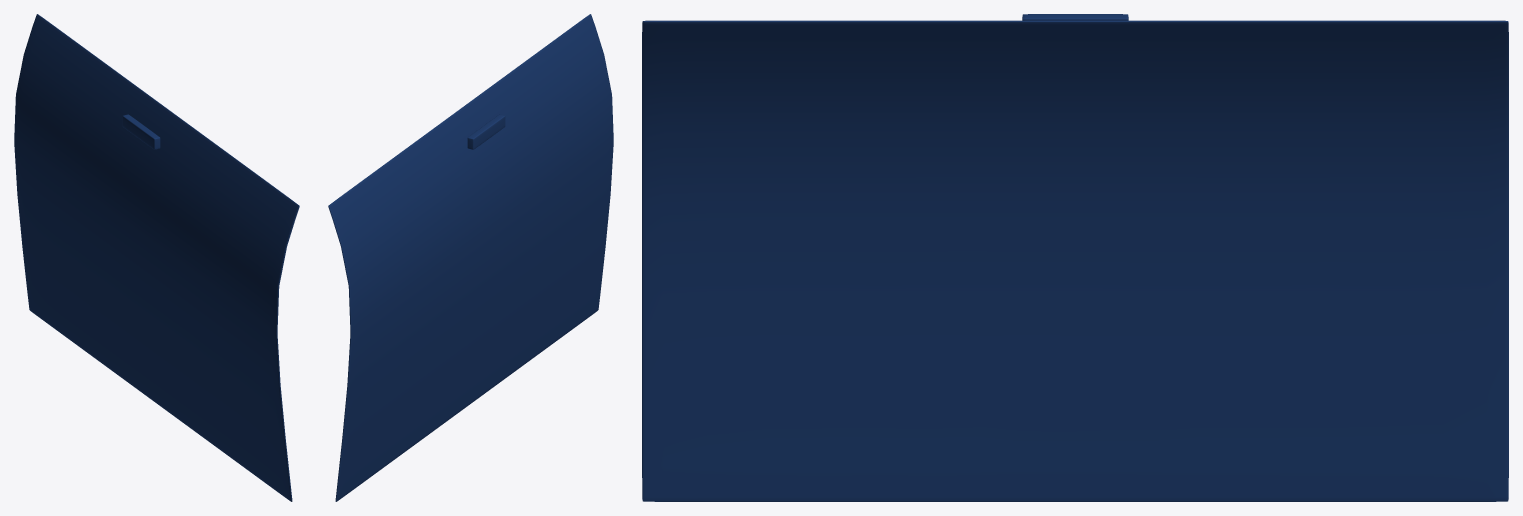
Rendered from door_front_r.glb.
The picture shows the model from 3 angles, left to right: view 1: azimuth 30°, elevation 25°; view 2: azimuth 150°, elevation 25°; view 3: azimuth 270°, elevation 25°; orthographic projection. The views are drawn at different scales.
Visible parts, largest first — view 1: GEO_Door_Front_R; view 2: GEO_Door_Front_R; view 3: GEO_Door_Front_R.
Part boxes in pixels (x1,y1,x2,y2): GEO_Door_Front_R: [14, 14, 299, 501]; GEO_Door_Front_R: [328, 14, 613, 501]; GEO_Door_Front_R: [642, 14, 1508, 501].
Size of the model in its own units: 0.0828 by 0.7562 by 1.22.
